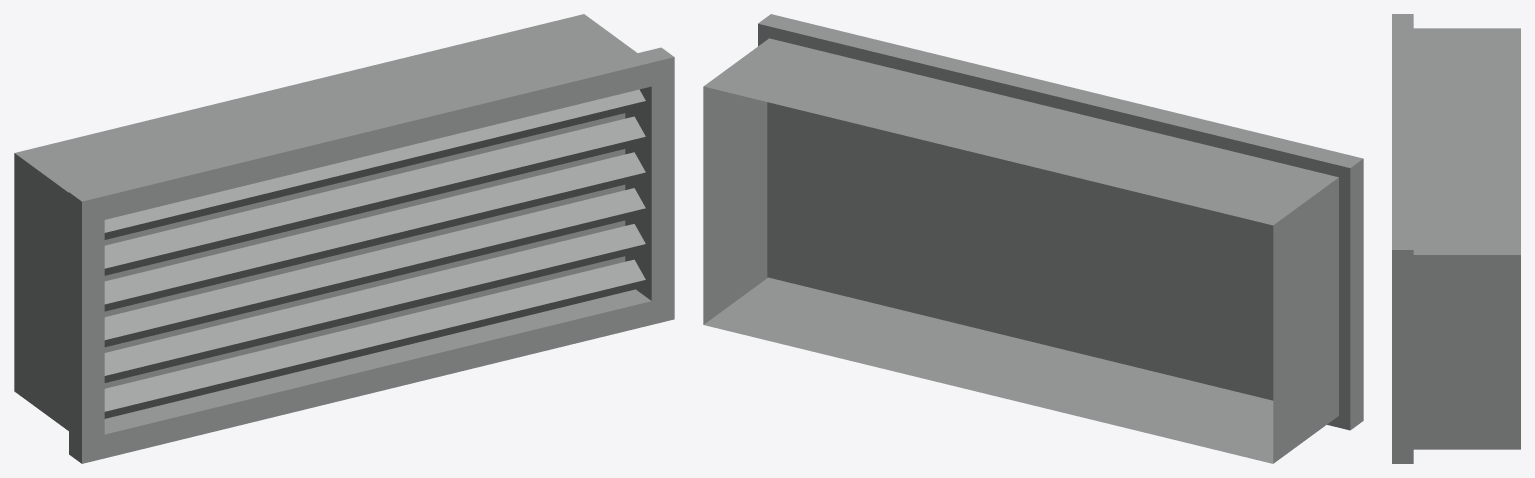
The model's file is HVAC_Grille_20x50.fbx.
3 renders of one model, left to right at view 1: azimuth 30°, elevation 25°; view 2: azimuth 150°, elevation 25°; view 3: azimuth 270°, elevation 25°, orthographic. The views are drawn at different scales.
Visible parts, largest first — view 1: HVAC_Grille_20x50; view 2: HVAC_Grille_20x50; view 3: HVAC_Grille_20x50.
Part boxes in pixels (x1,y1,x2,y2): HVAC_Grille_20x50: (14, 14, 674, 463); HVAC_Grille_20x50: (703, 14, 1363, 463); HVAC_Grille_20x50: (1392, 14, 1520, 463).
Bounding box in the file's own units: 0.0052 × 0.0022 × 0.0012.
